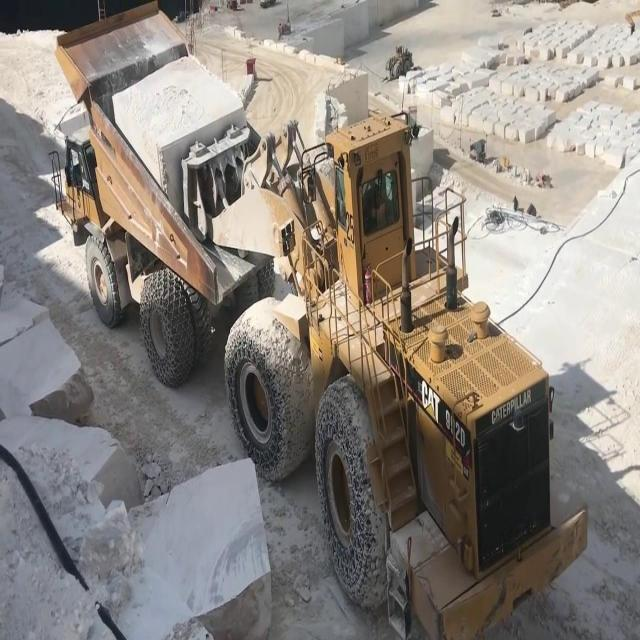Dump Truck: (47, 0, 275, 386)
Loader: (153, 59, 592, 639)
